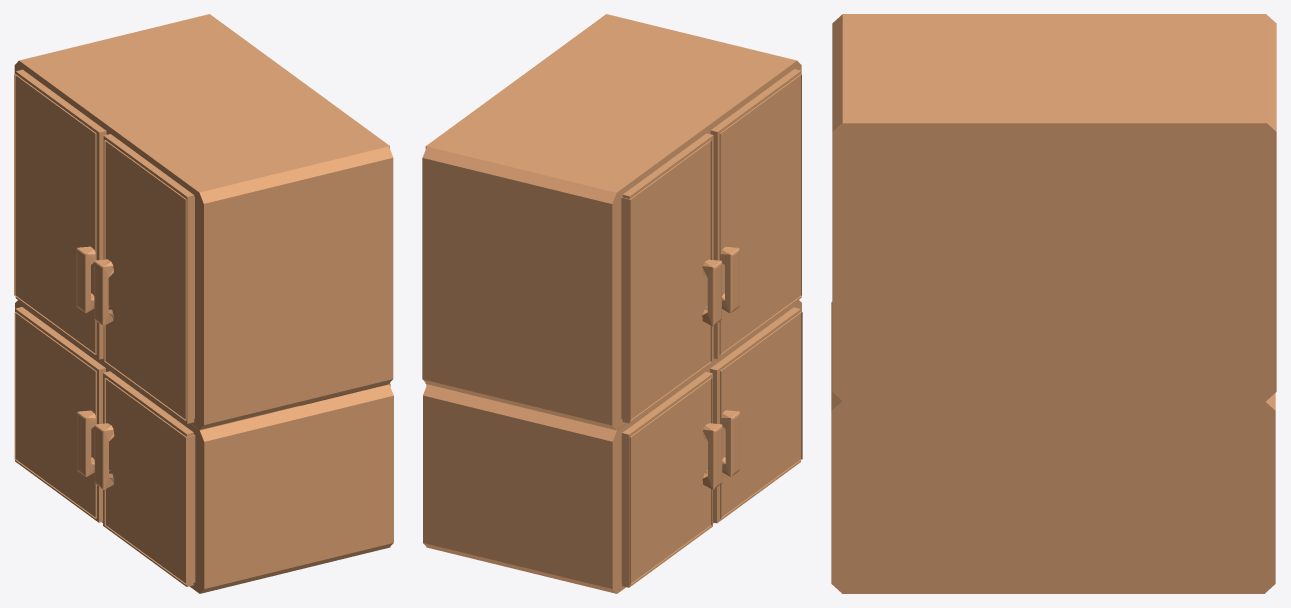
File: lemari4.fbx
The picture shows the model from 3 angles, left to right: view 1: azimuth 30°, elevation 25°; view 2: azimuth 150°, elevation 25°; view 3: azimuth 270°, elevation 25°; orthographic projection. The views are drawn at different scales.
Visible parts, largest first — view 1: Lemari; view 2: Lemari; view 3: Lemari.
Part boxes in pixels (<box>): Lemari: <box>14,14,393,593</box>; Lemari: <box>422,14,802,593</box>; Lemari: <box>831,14,1276,593</box>.
Size of the model in its own units: 67.49 by 123 by 105.
